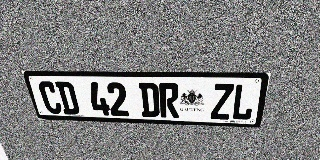2: (106, 82, 129, 116)
4: (87, 82, 111, 116)
C: (37, 81, 63, 114)
D: (55, 81, 80, 115), (139, 83, 160, 117)
L: (231, 84, 257, 120)
R: (159, 83, 179, 118)
Z: (210, 84, 234, 120)
